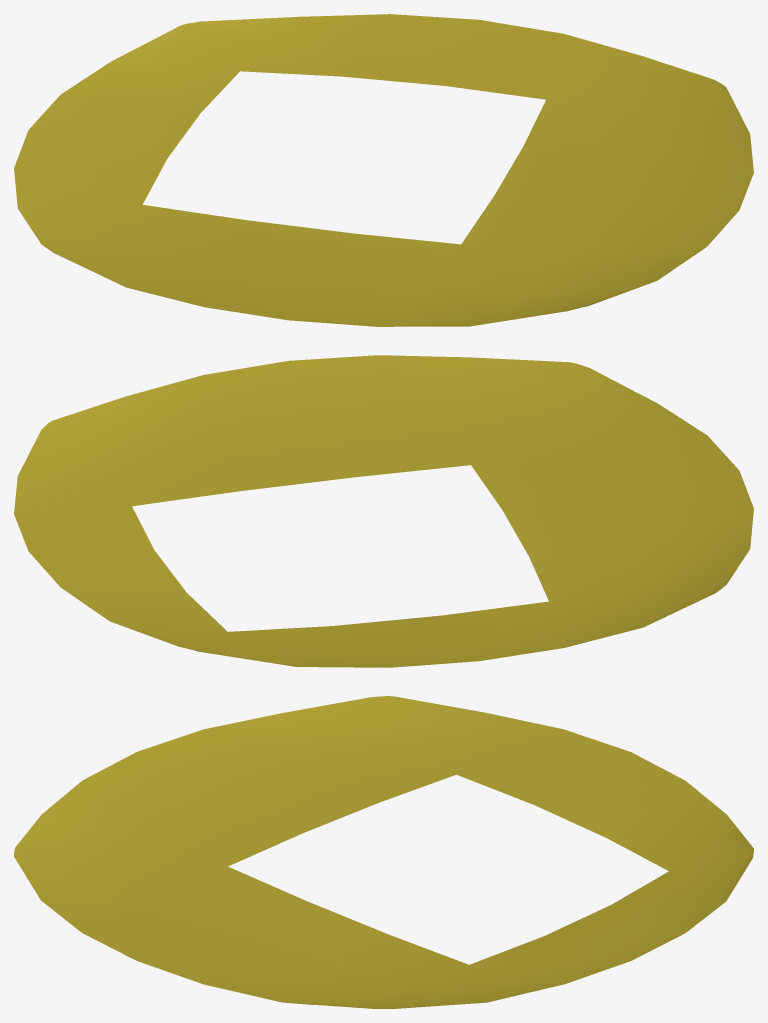
Rendered from MultiMeshSurfaces.gltf.
3 renders of one model, top to bottom at view 1: azimuth 30°, elevation 25°; view 2: azimuth 150°, elevation 25°; view 3: azimuth 270°, elevation 25°, orthographic. The views are drawn at different scales.
Parts seen in each view (by area): view 1: MultiMeshDiscIsland; view 2: MultiMeshDiscIsland; view 3: MultiMeshDiscIsland.
Boxes of the visible parts, left/top/right/bottom form: MultiMeshDiscIsland: left=14, top=14, right=753, bottom=326; MultiMeshDiscIsland: left=14, top=355, right=753, bottom=667; MultiMeshDiscIsland: left=14, top=696, right=753, bottom=1008.
Size of the model in its own units: 34.37 by 0.8447 by 34.37.
1 material, 1 textured.
